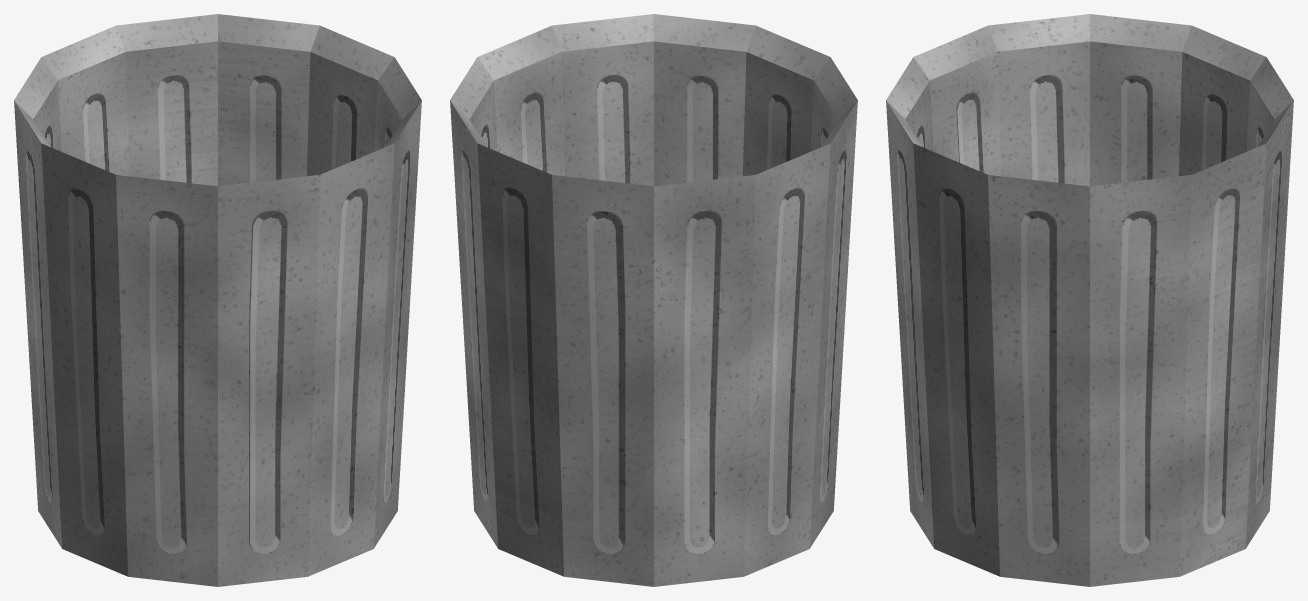
Rendered from trashcan.dae.
3 views of the same model, side by side, from view 1: azimuth 30°, elevation 25°; view 2: azimuth 150°, elevation 25°; view 3: azimuth 270°, elevation 25° (orthographic).
Visible parts, largest first — view 1: Cylinder; view 2: Cylinder; view 3: Cylinder.
Boxes of the visible parts, left/top/right/bottom form: Cylinder: left=14, top=14, right=421, bottom=586; Cylinder: left=450, top=14, right=857, bottom=586; Cylinder: left=886, top=14, right=1293, bottom=586.
Size of the model in its own units: 2 by 2 by 2.22.
